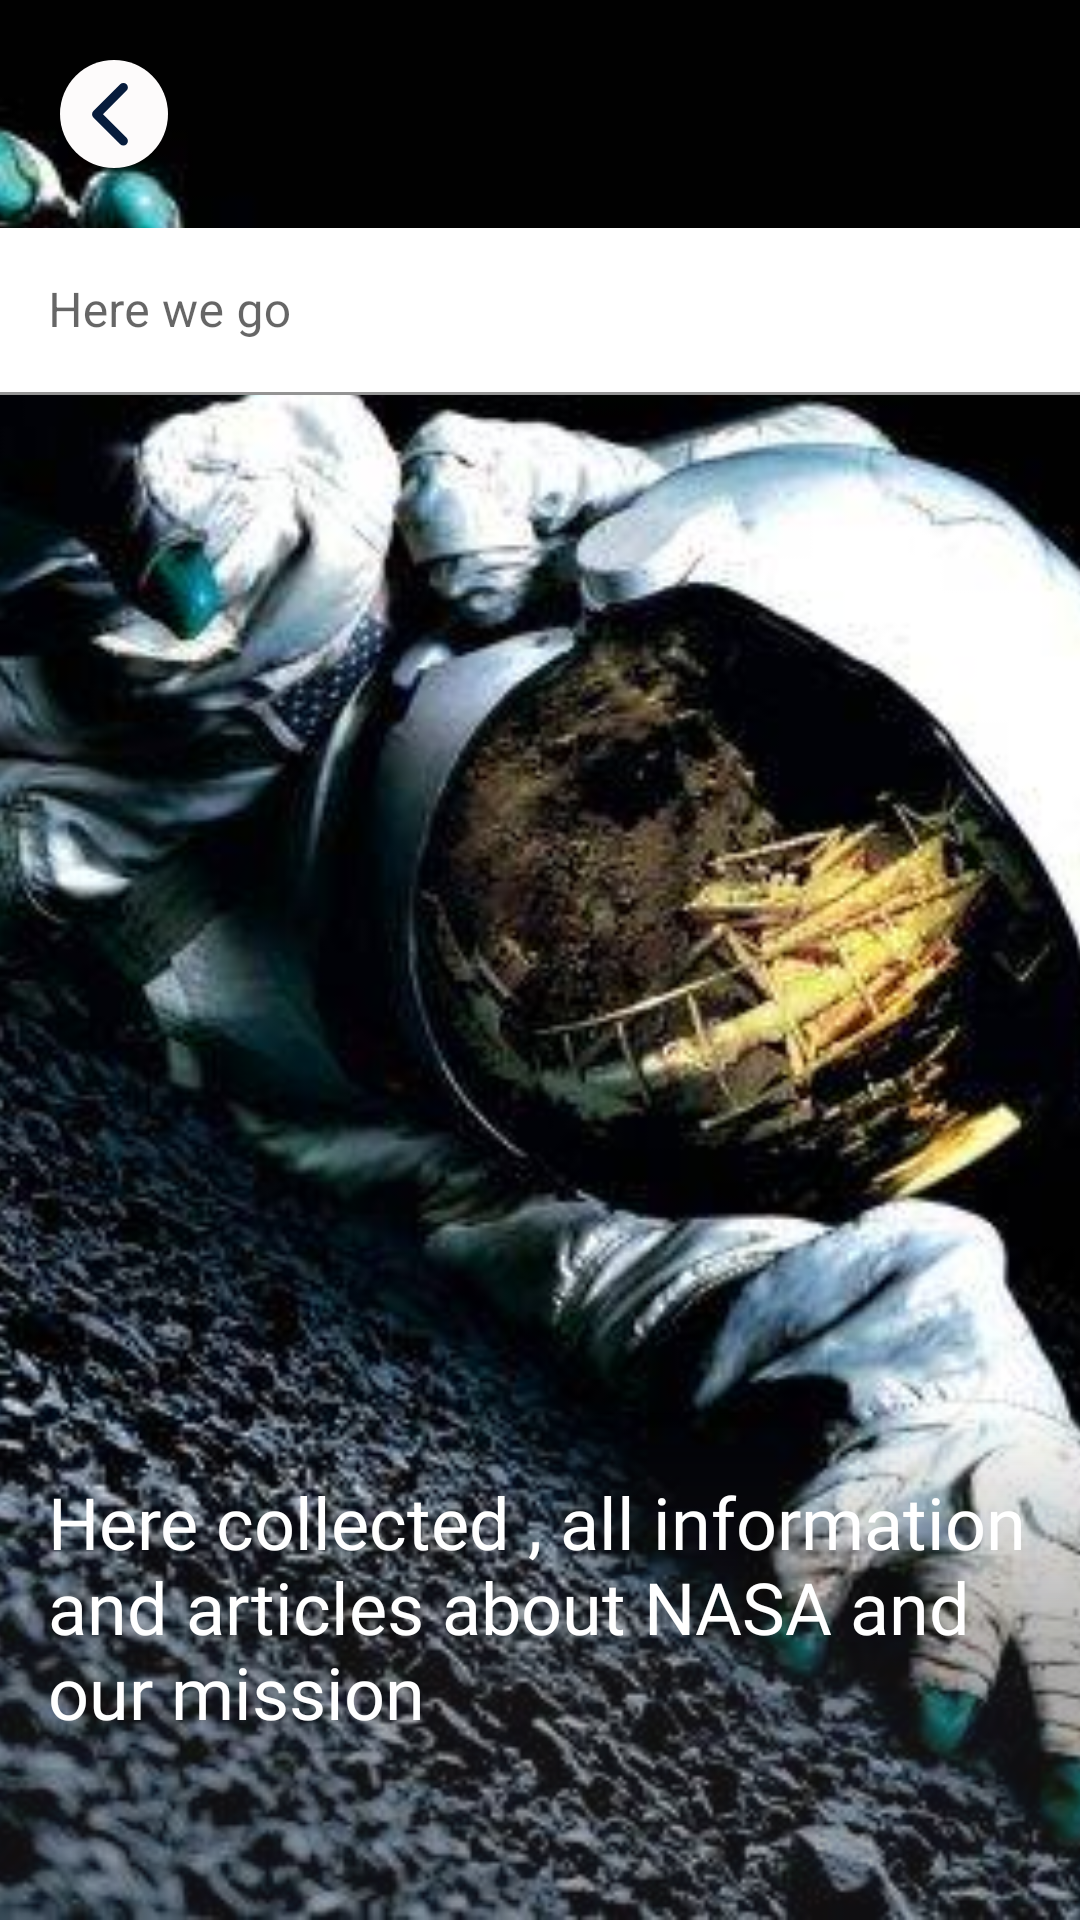

Icon bounding boxes for this 1080 x 1920 phone screenshot, format (x1,y1,x2,y2):
arrow back: (60,60,168,168)
